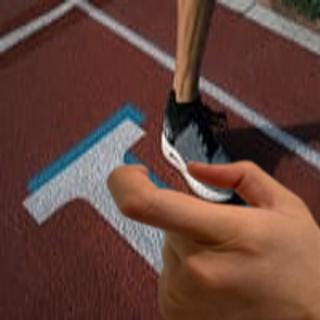HATE: (92, 147, 320, 320)
